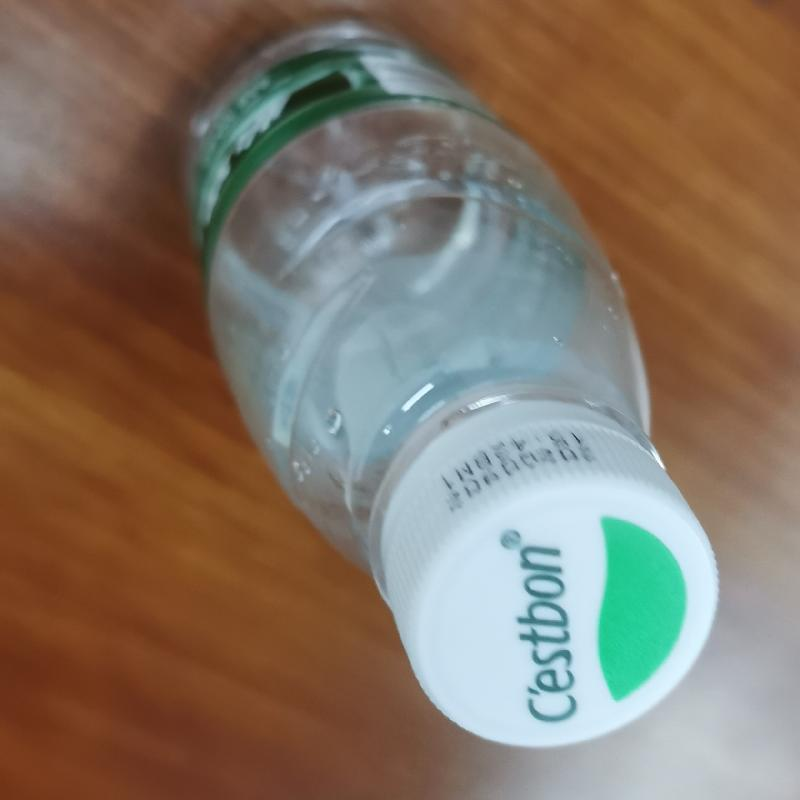bottles: (166, 3, 726, 756)
